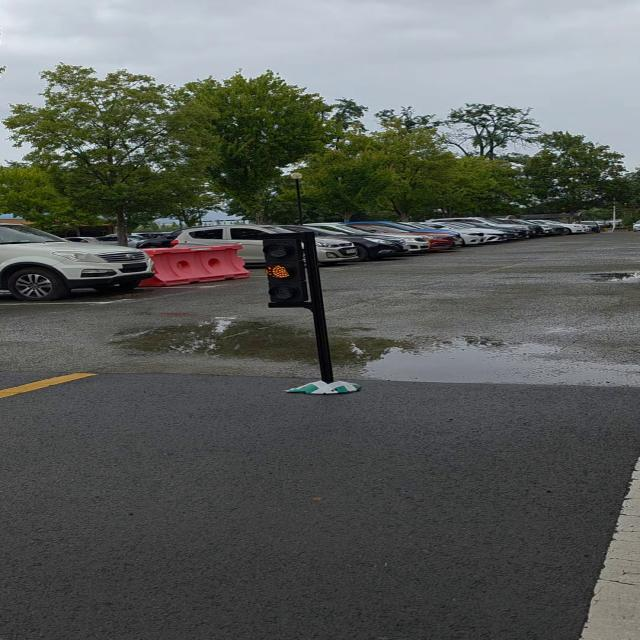yellow: (258, 241, 311, 309)
